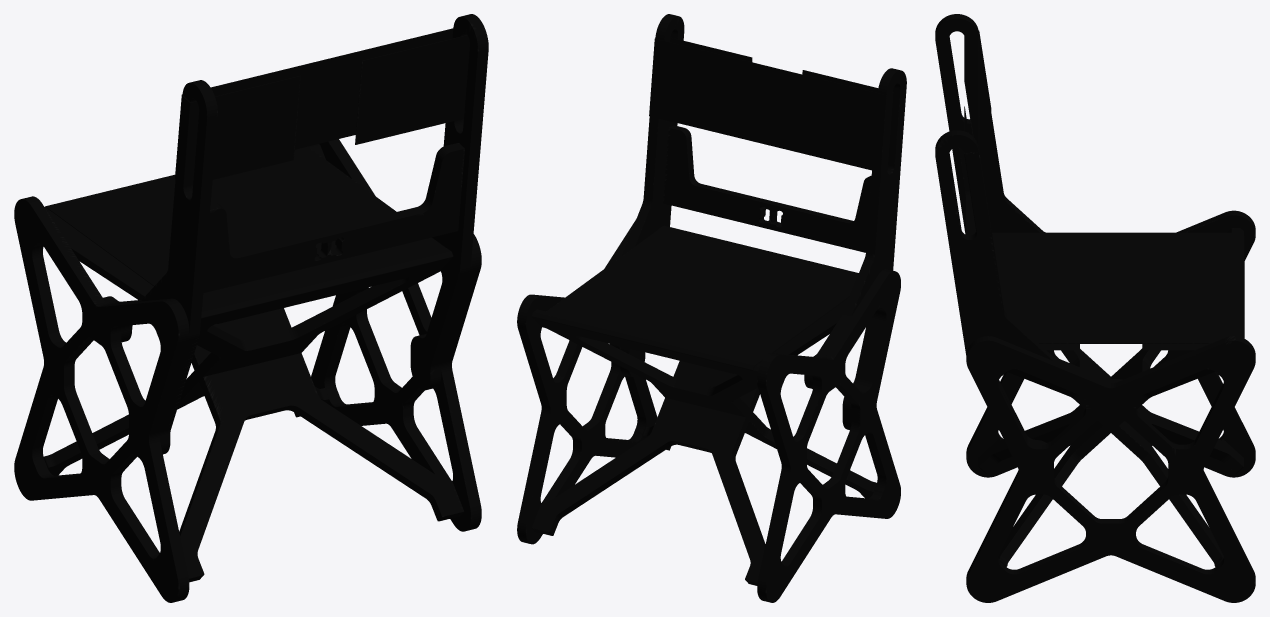
The picture shows the model from 3 angles, left to right: view 1: azimuth 30°, elevation 25°; view 2: azimuth 150°, elevation 25°; view 3: azimuth 270°, elevation 25°; orthographic projection. The views are drawn at different scales.
Parts seen in each view (by area): view 1: node_id3; view 2: node_id3; view 3: node_id3.
Boxes of the visible parts, left/top/right/bottom form: node_id3: left=14, top=14, right=488, bottom=602; node_id3: left=517, top=14, right=906, bottom=602; node_id3: left=935, top=14, right=1255, bottom=602.
Size of the model in its own units: 0.3081 by 0.512 by 0.3208.
Materials: 1 (1 with a texture image).
